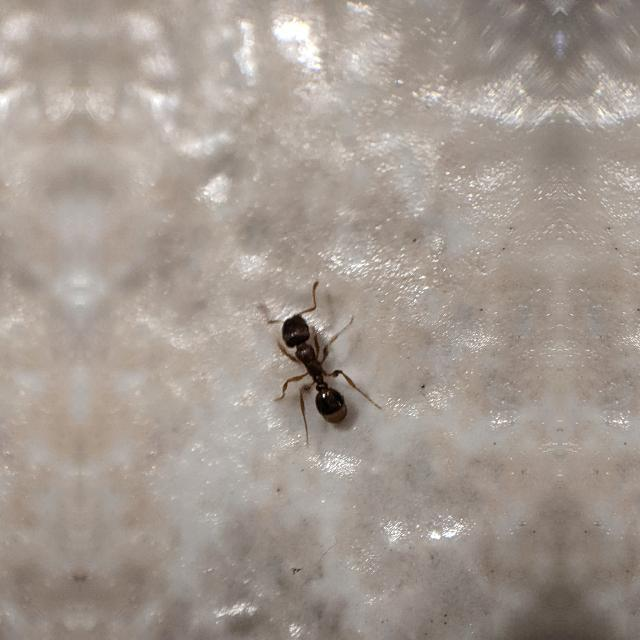Tetramorium: (251, 282, 387, 441)
